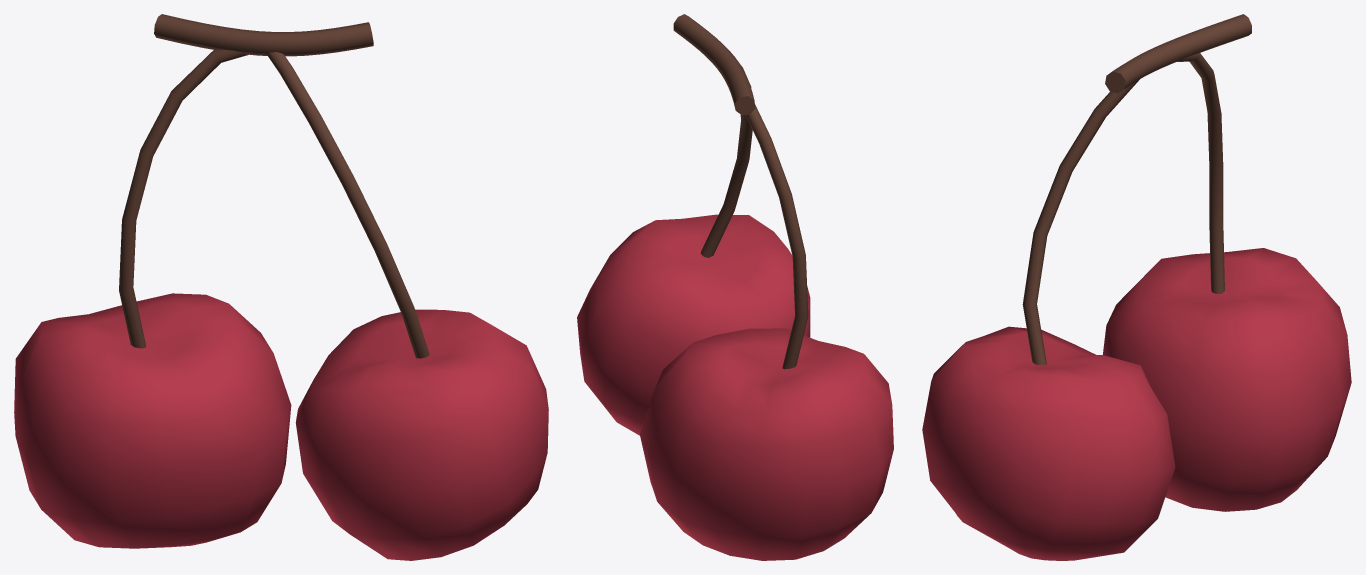
File: collectible_cherry.glb
3 renders of one model, left to right at view 1: azimuth 30°, elevation 25°; view 2: azimuth 150°, elevation 25°; view 3: azimuth 270°, elevation 25°, orthographic. The views are drawn at different scales.
Visible parts, largest first — view 1: Cherry; view 2: Cherry; view 3: Cherry.
Part boxes in pixels (box(x1,y1,x2,y2)): Cherry: box(14, 14, 548, 560); Cherry: box(577, 14, 893, 560); Cherry: box(922, 14, 1351, 560).
Bounding box in the file's own units: 0.8815 × 1.04 × 0.8356.
